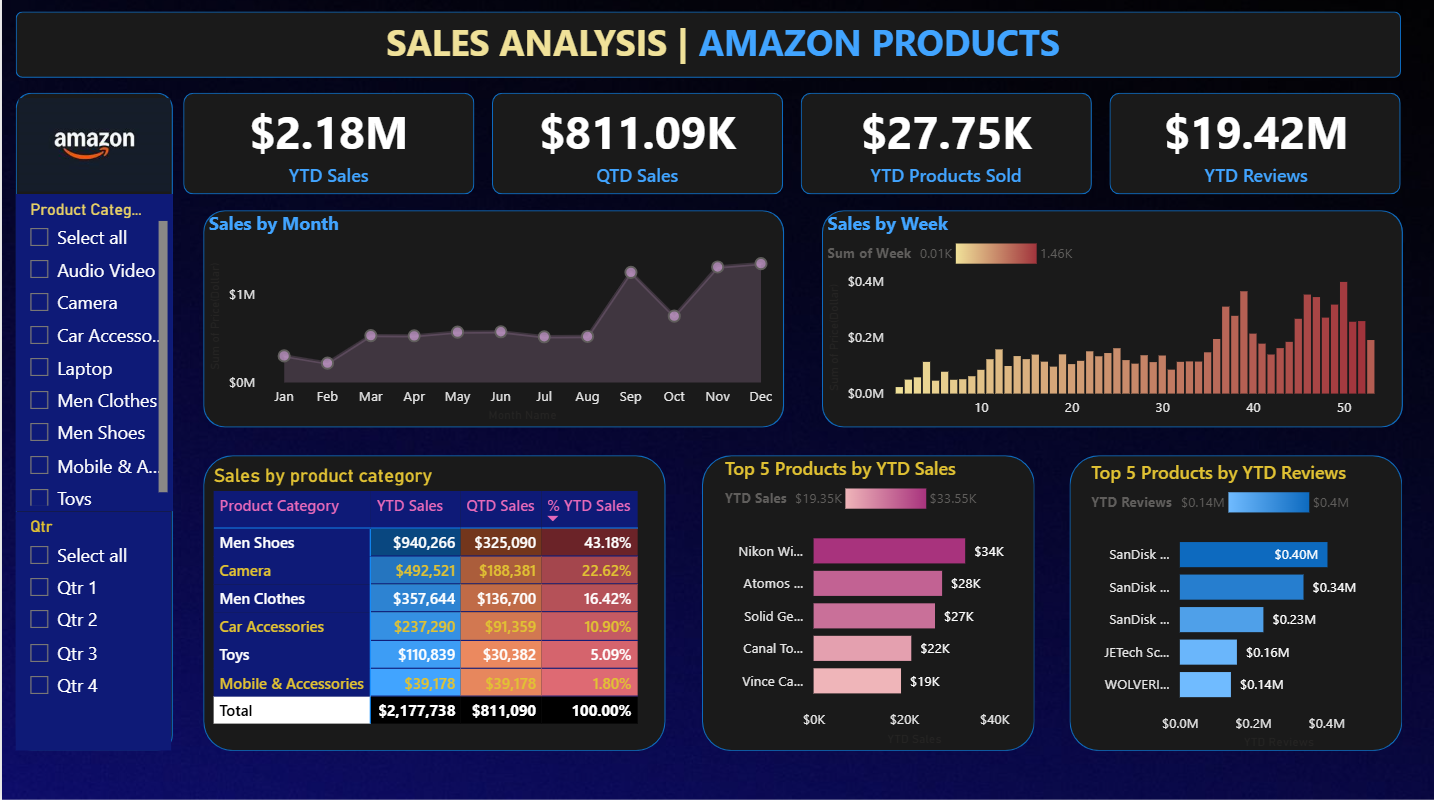

The dashboard page shown, as its layout file describes it:
{"tool":"powerbi","page":{"name":"Page 1","canvas":[1280,720],"ordinal":0},"visuals":[{"type":"shape","box":[711.7,87.8,259.3,90.6],"z":0,"group":"g1"},{"type":"shape","box":[179.8,192.1,517.3,193.5],"z":0},{"type":"shape","box":[12.3,15.1,1233.6,59],"z":1000},{"type":"shape","box":[12.3,87.8,140,585.9],"z":2000},{"type":"shape","box":[161.9,87.8,259.3,90.6],"z":3000,"group":"g1"},{"type":"textbox","box":[337.6,15.1,702.6,59],"z":3000},{"type":"card","fields":{"Values":["Amazon_Data.YTD Sales"]},"box":[161.9,87.8,259.3,90.6],"z":4000,"group":"g1"},{"type":"group","id":"g1","title":"Group 1","box":[161.9,87.8,1085.4,90.6],"z":4000},{"type":"shape","box":[436.8,87.8,259.3,90.6],"z":5000,"group":"g1"},{"type":"areaChart","title":"Sales by Month ","fields":{"Category":["Date Table.Month Name"],"Y":["Sum(Amazon_Data.Price(Dollar))"]},"box":[179.8,192.1,517.3,193.5],"z":5000},{"type":"shape","box":[986.6,87.8,259.3,90.6],"z":6000,"group":"g1"},{"type":"shape","box":[730,192.1,517.3,193.5],"z":6000},{"type":"card","fields":{"Values":["Amazon_Data.QTD Sales"]},"box":[436.3,87.8,259.3,90.6],"z":7000,"group":"g1"},{"type":"columnChart","title":"Sales by Week","fields":{"Category":["Date Table.Week"],"Y":["Sum(Amazon_Data.Price(Dollar))"]},"box":[730,192.1,517.3,193.5],"z":7000},{"type":"card","fields":{"Values":["Amazon_Data.YTD Products Sold"]},"box":[712.2,87.8,259.3,90.6],"z":8000,"group":"g1"},{"type":"shape","box":[179.8,410.3,411.7,263.5],"z":8000},{"type":"card","fields":{"Values":["Amazon_Data.YTD Reviews"]},"box":[988,87.8,259.3,90.6],"z":9000,"group":"g1"},{"type":"pivotTable","title":"Sales by product category","fields":{"Rows":["Amazon_Data.Product Category"],"Values":["Amazon_Data.YTD Sales1","Amazon_Data.QTD Sales","Amazon_Data.YTD Sales"]},"box":[183.9,418.5,402.1,255.2],"z":9000},{"type":"shape","box":[623,410.3,296.4,263.5],"z":10000},{"type":"shape","box":[950.9,410.3,296.4,263.5],"z":11000},{"type":"clusteredBarChart","title":"Top 5 Products by YTD Sales","fields":{"Category":["Amazon_Data.Product Description"],"Y":["Amazon_Data.YTD Sales"]},"box":[639.5,410.3,282.7,263.5],"z":12000},{"type":"clusteredBarChart","title":"Top 5 Products by YTD Reviews","fields":{"Category":["Amazon_Data.Product Description"],"Y":["Amazon_Data.YTD Reviews"]},"box":[964.7,414.4,282.7,263.5],"z":13000},{"type":"slicer","fields":{"Values":["Amazon_Data.Product Category"]},"box":[12.3,178.4,140,282.7],"z":14000},{"type":"slicer","fields":{"Values":["Date Table.Qtr"]},"box":[12.3,461.1,138.6,212.7],"z":15000},{"type":"image","box":[1.4,87.8,161.9,93.3],"z":16000}]}

Visuals, with their boxes in screenshot pixels (x1, y1, x2, y2), scaled from the page's 1280x720 canvas onto the 1434x800 screenshot:
shape: 797 98 1088 198
shape: 201 213 781 428
shape: 14 17 1396 82
shape: 14 98 171 749
shape: 181 98 472 198
textbox: 378 17 1165 82
card - Amazon_Data.YTD Sales: 181 98 472 198
"Group 1" group: 181 98 1397 198
shape: 489 98 780 198
"Sales by Month " areaChart: 201 213 781 428
shape: 1105 98 1396 198
shape: 818 213 1397 428
card - Amazon_Data.QTD Sales: 489 98 779 198
"Sales by Week" columnChart: 818 213 1397 428
card - Amazon_Data.YTD Products Sold: 798 98 1088 198
shape: 201 456 663 749
card - Amazon_Data.YTD Reviews: 1107 98 1397 198
"Sales by product category" pivotTable: 206 465 657 749
shape: 698 456 1030 749
shape: 1065 456 1397 749
"Top 5 Products by YTD Sales" clusteredBarChart: 716 456 1033 749
"Top 5 Products by YTD Reviews" clusteredBarChart: 1081 460 1397 753
slicer - Amazon_Data.Product Category: 14 198 171 512
slicer - Date Table.Qtr: 14 512 169 749
image: 2 98 183 201
